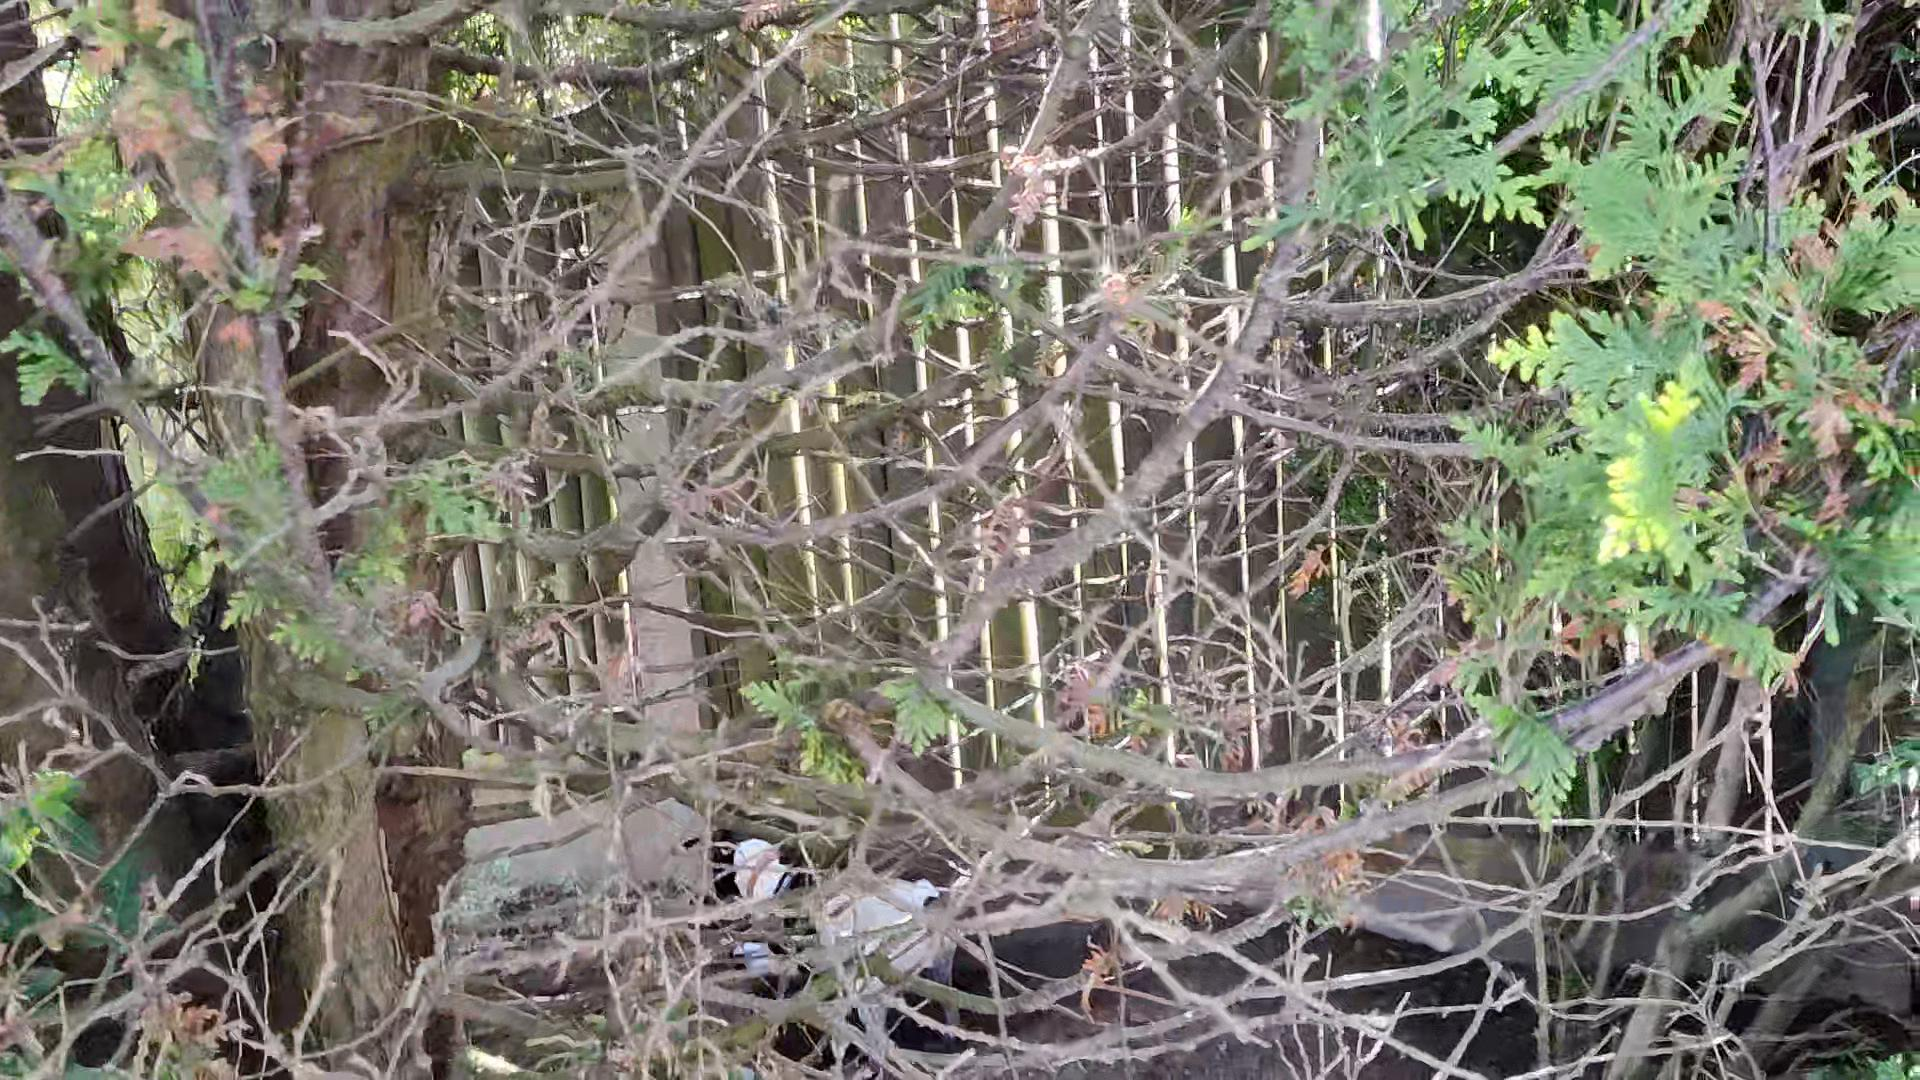Dog: (671, 815, 967, 1054)
